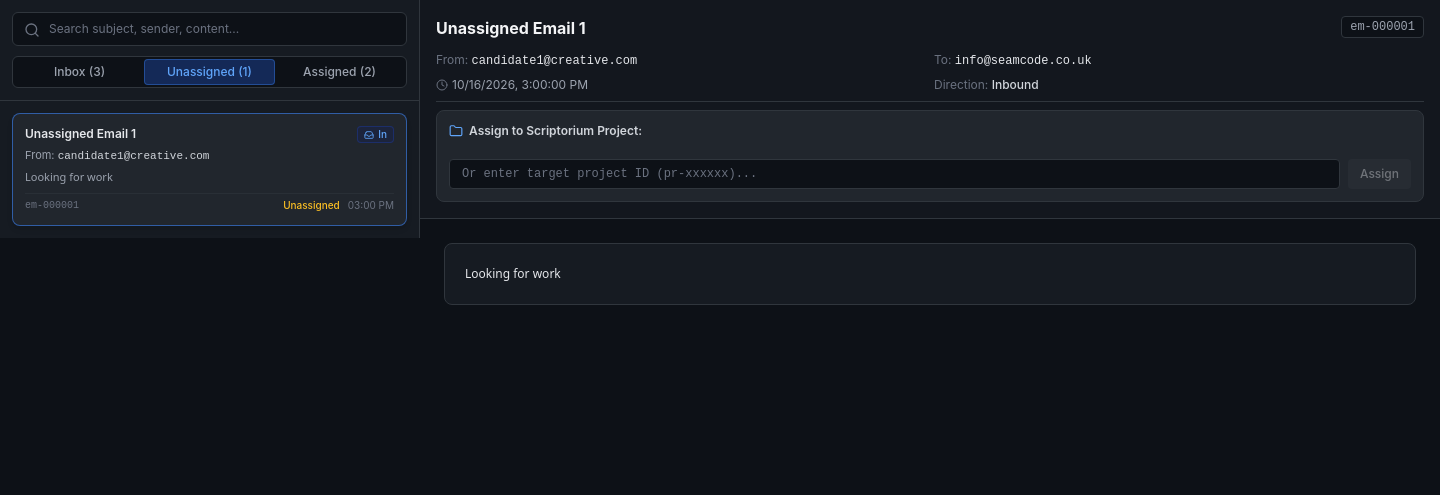
Test: EmailHub Filter Categories › emailHubFilters_mixedEmails_rendersInboxUnassignedAssignedTabsAndFiltersCorrectly_test
Expected: the button with test id "email-filter-unassigned" reads "Unassigned (1)", x1=144 y1=59 x2=275 y2=85
Expected: the button with test id "email-filter-assigned" reads "Assigned (2)", x1=275 y1=59 x2=404 y2=85
Click the button with test id "email-filter-inbox". click: (80,72)
box: x1=15 y1=59 x2=144 y2=85
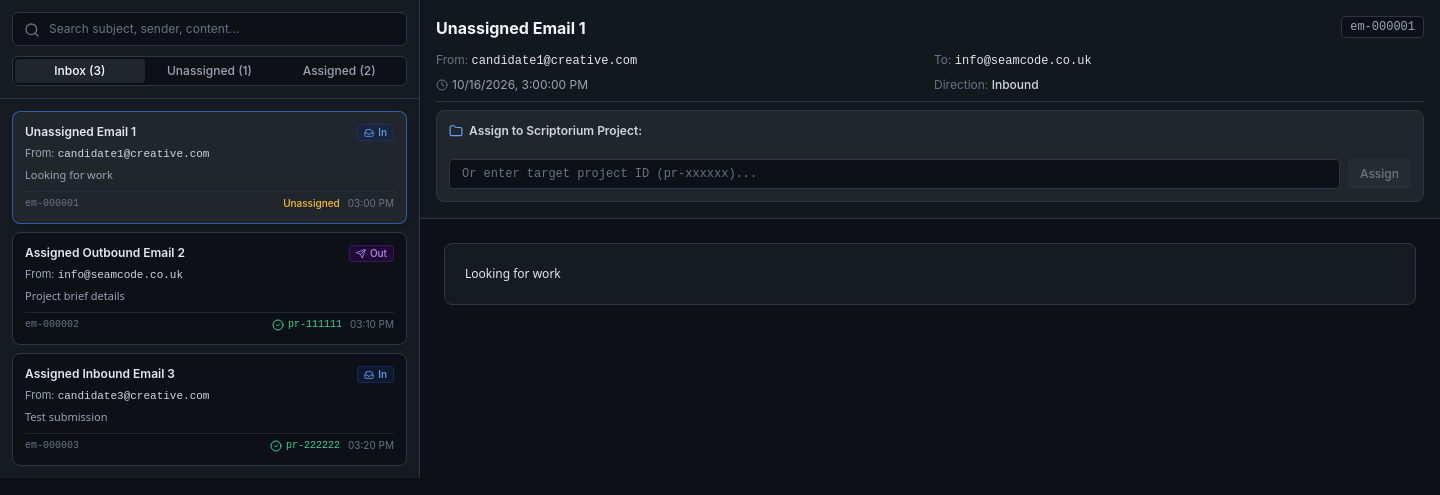
Now the number of elements with test id "email-hub-card" is 3, box x1=12 y1=111 x2=407 y2=224; x1=12 y1=232 x2=407 y2=345; x1=12 y1=353 x2=407 y2=466
Click the button with test id "email-filter-assigned". click: (339,71)
box: x1=274 y1=59 x2=404 y2=83
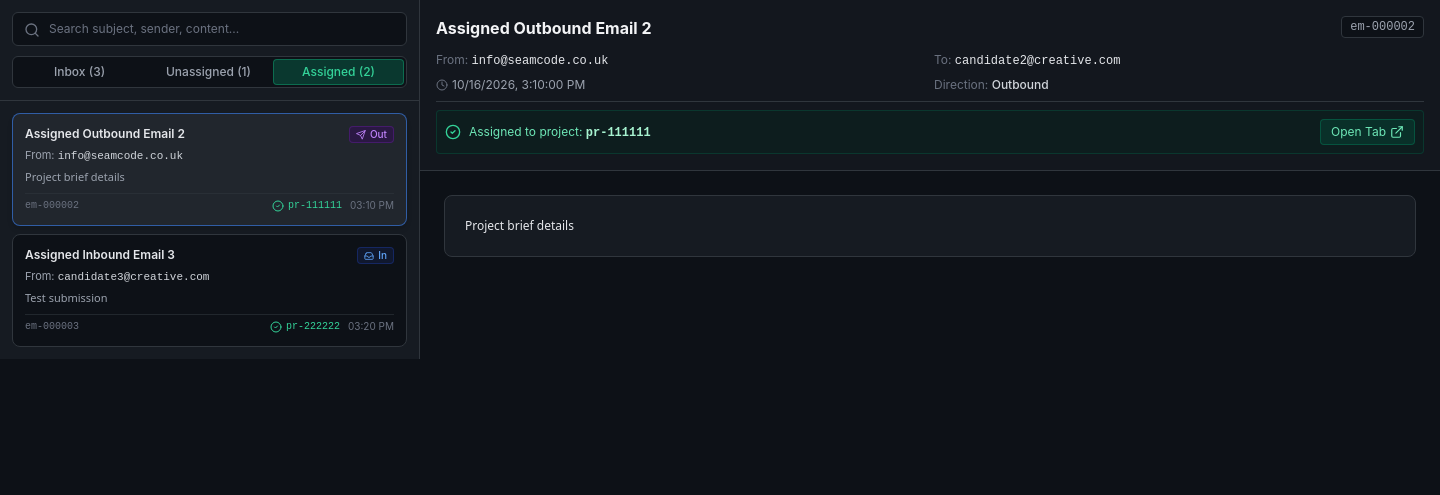
Now the element with test id "email-hub-card" shows "Assigned Outbound Email 2", box x1=25 y1=126 x2=185 y2=141
Now the element with test id "email-hub-card" shows "Assigned Inbound Email 3", box x1=25 y1=247 x2=175 y2=262
Now the number of elements with test id "email-hub-card" is 2, box x1=12 y1=113 x2=407 y2=226; x1=12 y1=234 x2=407 y2=347
